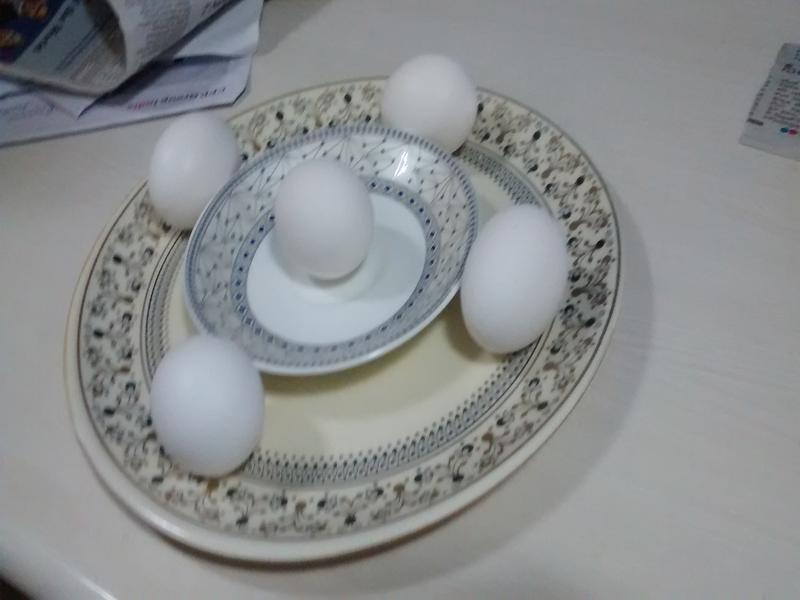egg: (272, 157, 375, 283)
